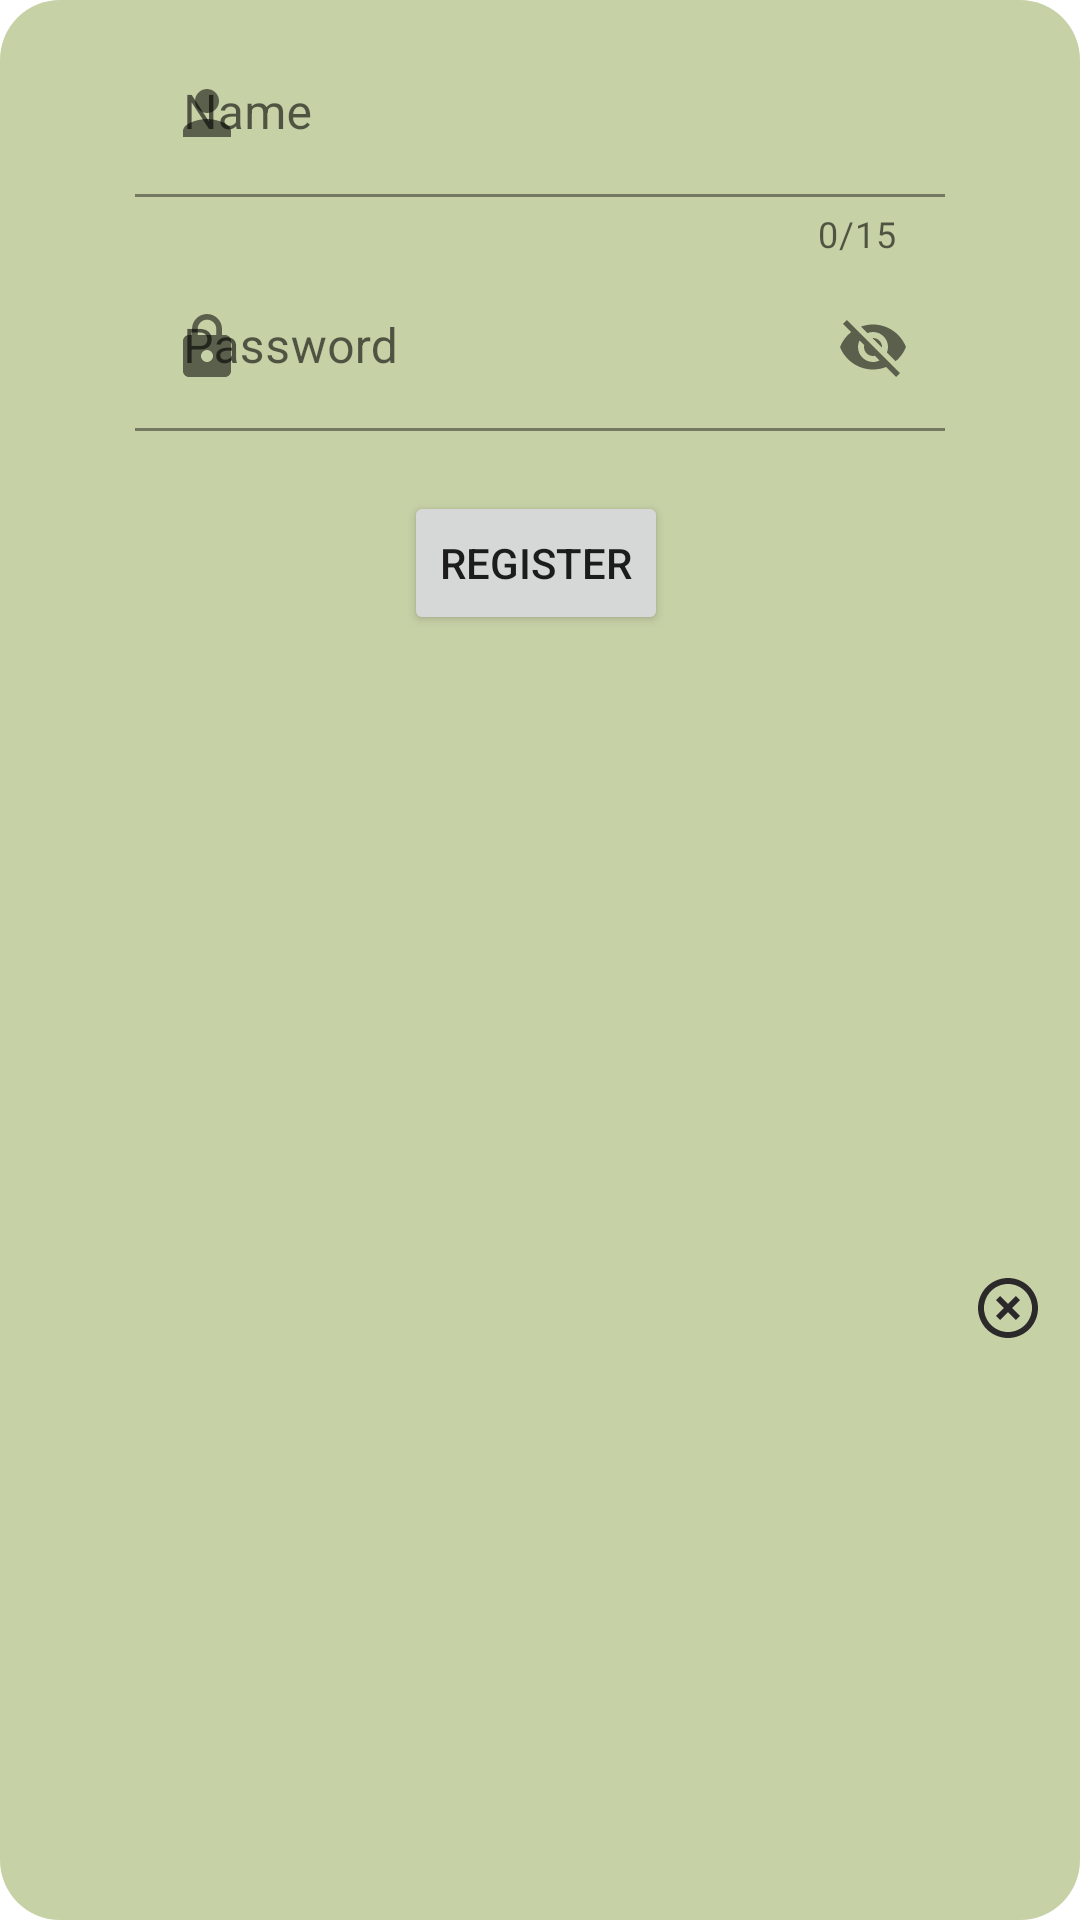

Named icons in this screenshot (1080px x 1920px) and their bounding boxes, (x1, y1, x2, y2):
close window: (978, 1278, 1038, 1338)
